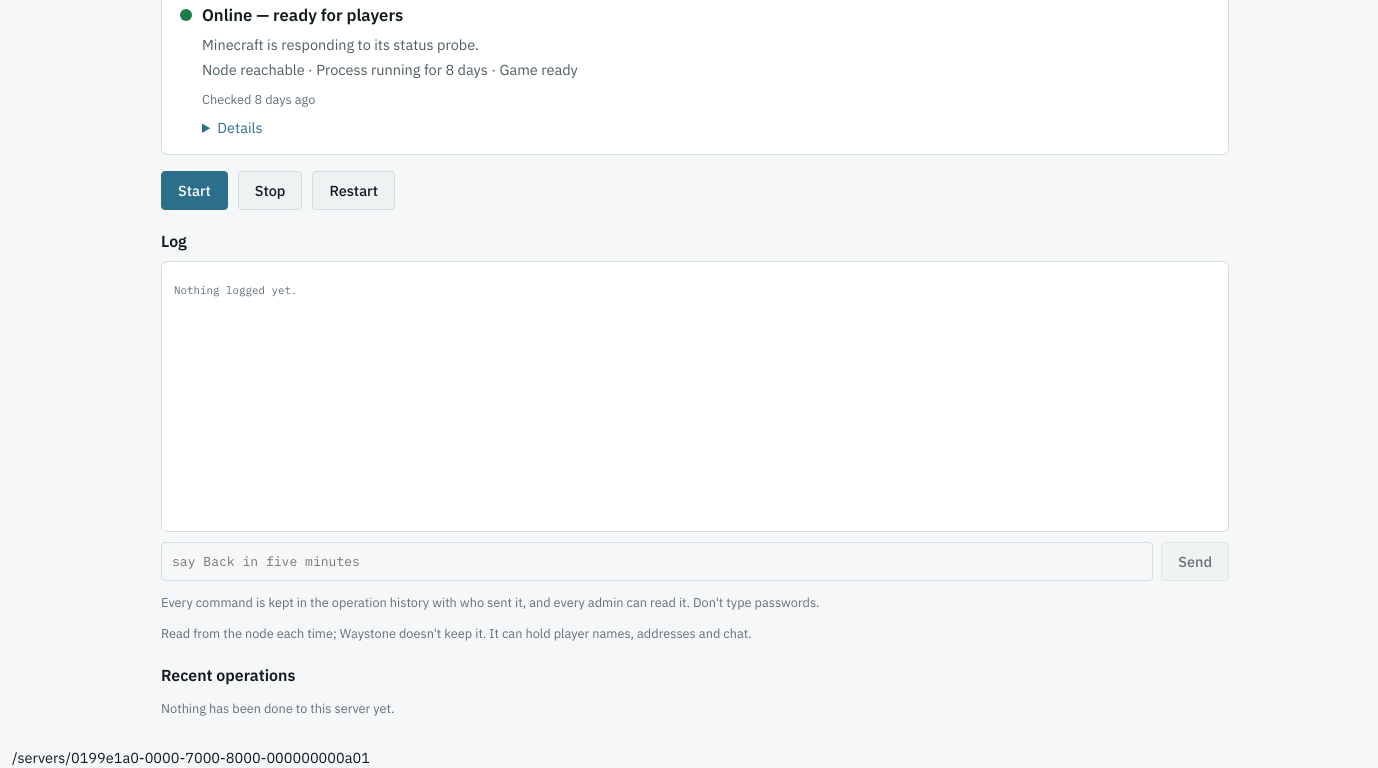
Test case: command box (D2) › the API refusal is shown, and the line is kept
(page scrolled)
Type "say hi" into the field named "Console command".
click(657, 562); type("say hi")  # box left=161, top=542, right=1153, bottom=581
Then press Enter
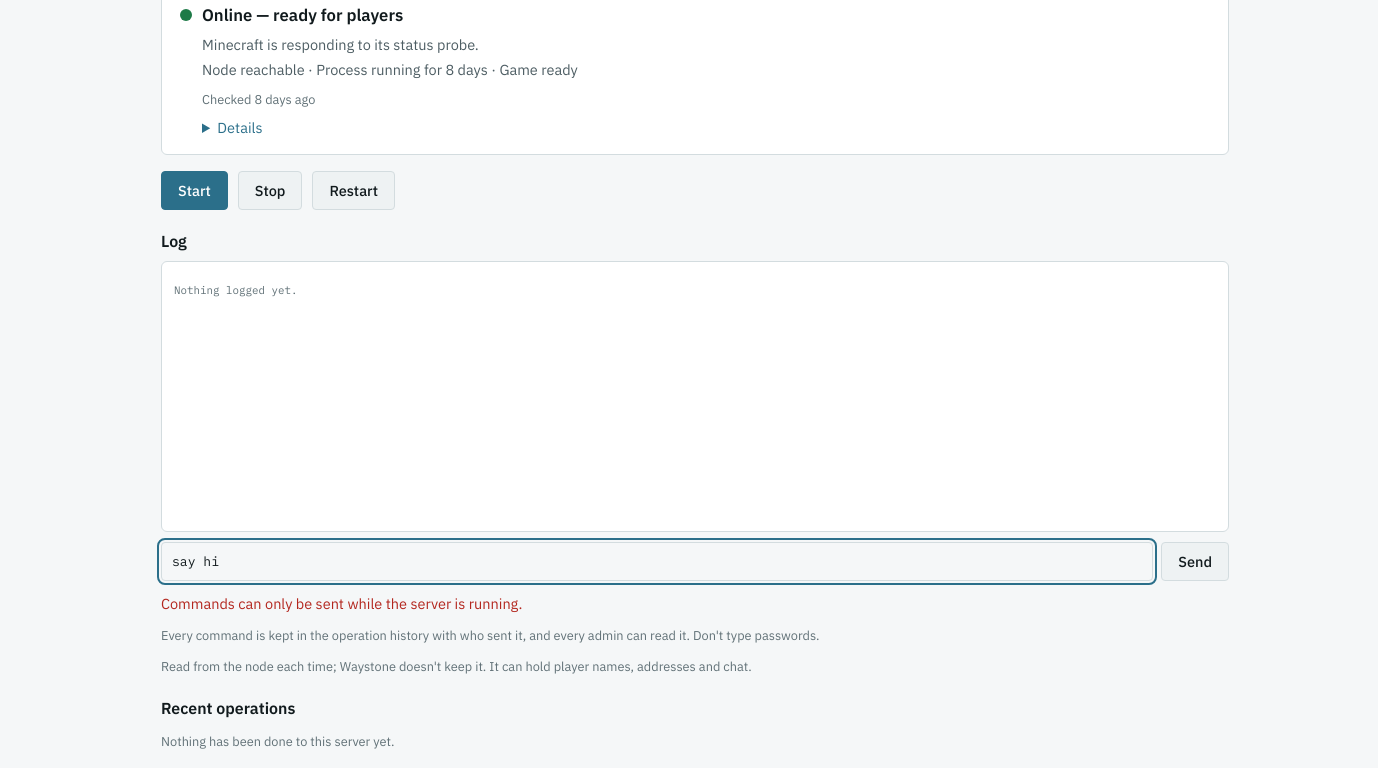
Result: the text "Commands can only be sent while the server is running." is shown at left=161, top=594, right=522, bottom=613
